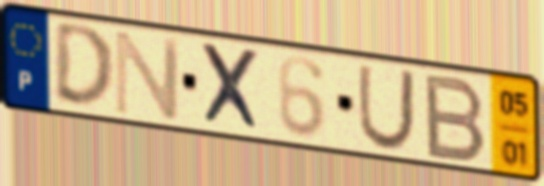6: (274, 53, 329, 142)
B: (422, 71, 490, 165)
D: (51, 22, 118, 114)
N: (112, 28, 185, 122)
U: (355, 62, 419, 155)
X: (196, 40, 267, 136)
